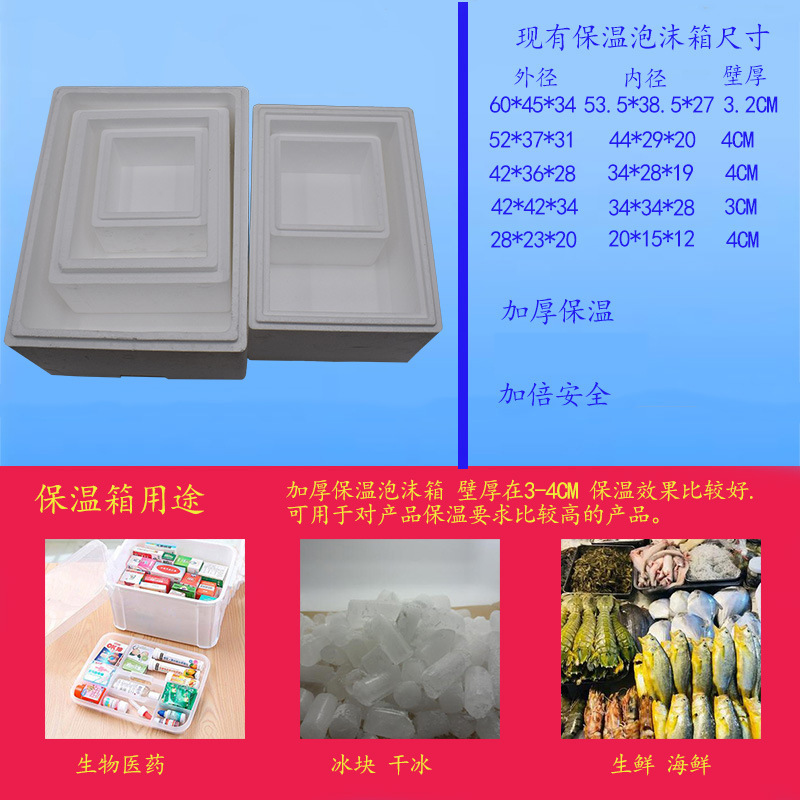泡沫箱: (7, 88, 442, 378)
